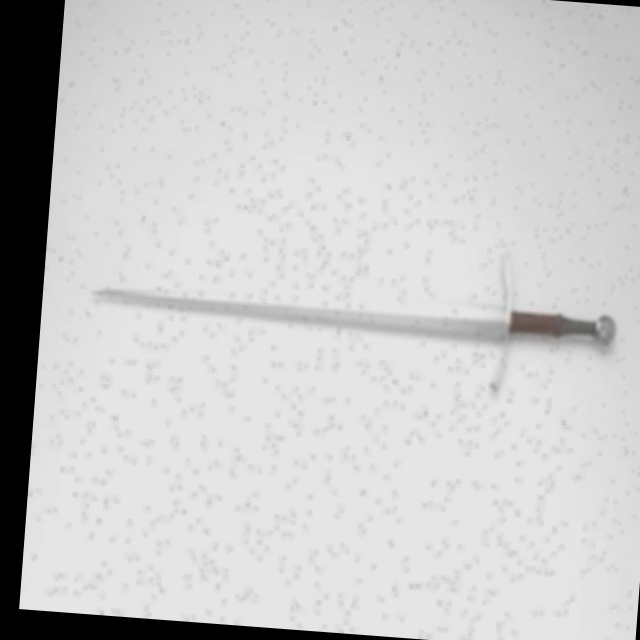Sharp-Object: (90, 263, 627, 361)
